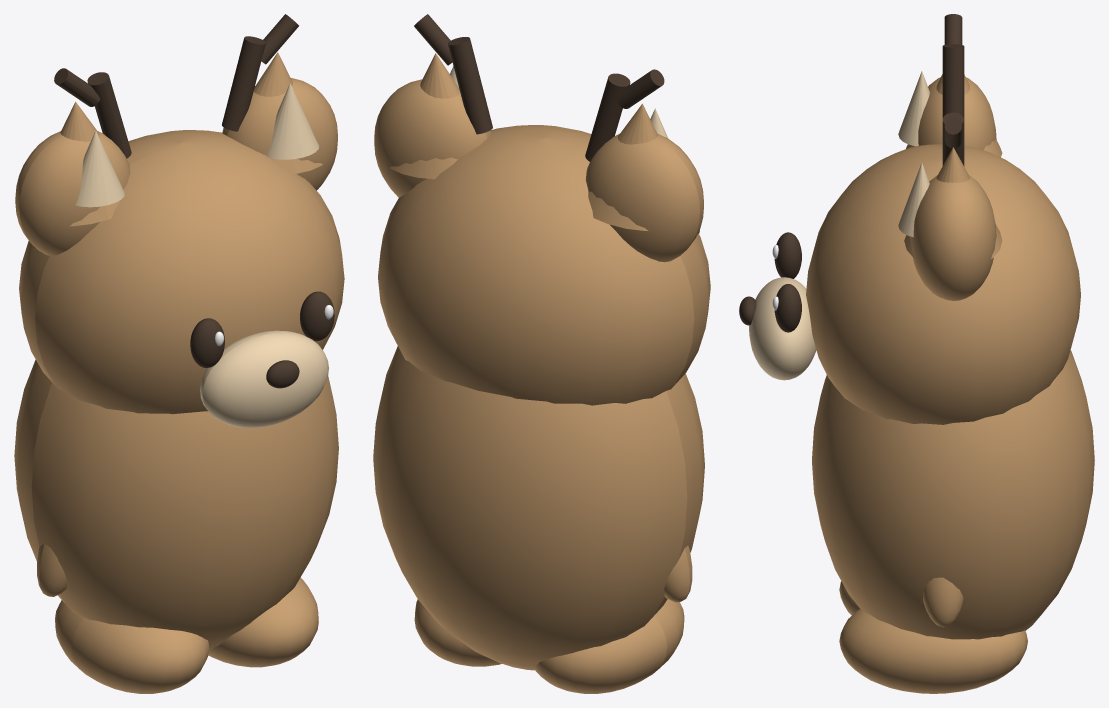
3 views of the same model, side by side, from view 1: azimuth 30°, elevation 25°; view 2: azimuth 150°, elevation 25°; view 3: azimuth 270°, elevation 25° (orthographic). The views are drawn at different scales.
Bounding box in the file's own units: 1.78 × 3.34 × 1.81.
